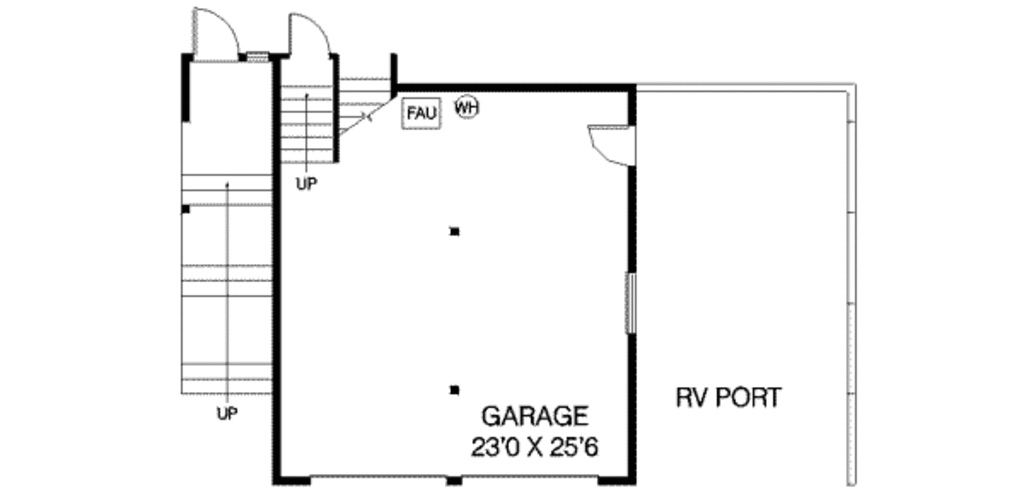door: (181, 1, 245, 60), (583, 118, 641, 173), (285, 10, 333, 60)
stairs: (180, 56, 275, 400), (277, 60, 395, 176)
window: (626, 269, 646, 341)
